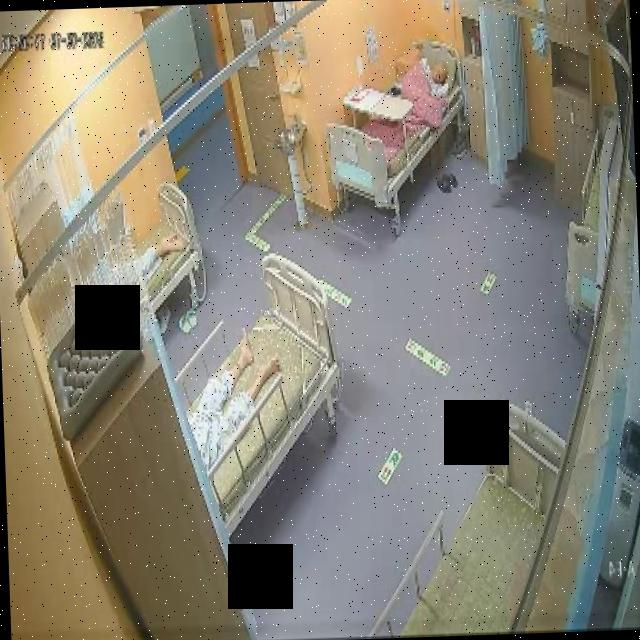bed: (360, 401, 573, 638), (179, 252, 346, 532), (321, 37, 472, 210), (134, 180, 202, 313)
lie: (183, 322, 283, 468)
patient: (182, 320, 282, 466), (415, 54, 450, 98)
